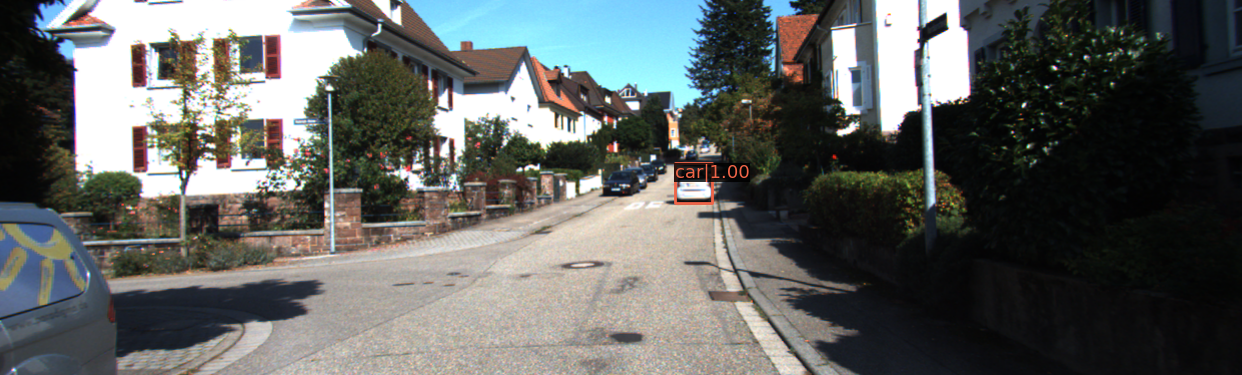car: (1, 202, 170, 375), (675, 170, 714, 207), (600, 170, 642, 196)
